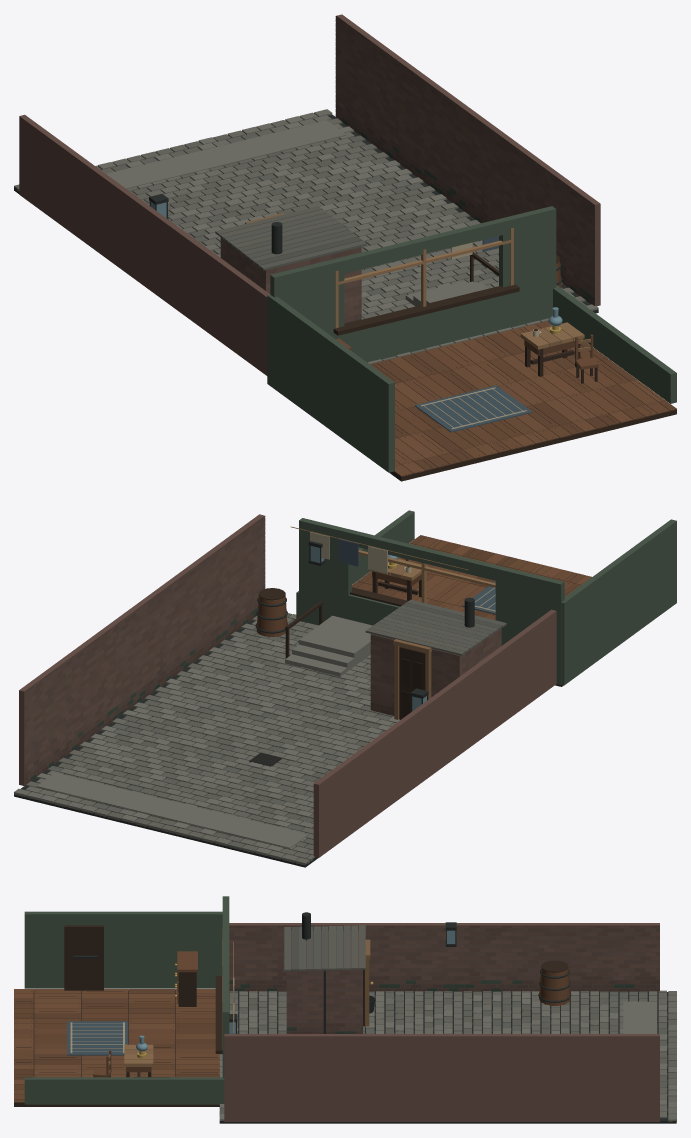
Rendered from baines-room.glb.
3 renders of one model, top to bottom at view 1: azimuth 30°, elevation 25°; view 2: azimuth 150°, elevation 25°; view 3: azimuth 270°, elevation 25°, orthographic. The views are drawn at different scales.
Visible parts, largest first — view 1: baines-room-brick, baines-room-stone, baines-room-green, baines-room-wood, baines-room-woodDark, baines-room-blue, baines-room-woodLight, baines-room-iron, baines-room-linen; view 2: baines-room-stone, baines-room-brick, baines-room-green, baines-room-wood, baines-room-woodDark, baines-room-iron, baines-room-woodLight, baines-room-blue, baines-room-linen; view 3: baines-room-brick, baines-room-stone, baines-room-green, baines-room-wood, baines-room-woodDark, baines-room-iron, baines-room-blue, baines-room-woodLight, baines-room-linen.
Boxes of the visible parts, left/top/right/bottom form: baines-room-brick: left=19, top=14, right=600, bottom=375; baines-room-stone: left=14, top=17, right=598, bottom=364; baines-room-green: left=267, top=118, right=676, bottom=472; baines-room-wood: left=336, top=261, right=676, bottom=476; baines-room-woodDark: left=333, top=252, right=676, bottom=481; baines-room-blue: left=415, top=236, right=532, bottom=432; baines-room-woodLight: left=245, top=213, right=590, bottom=351; baines-room-iron: left=14, top=114, right=672, bottom=473; baines-room-linen: left=420, top=242, right=541, bottom=429; baines-room-stone: left=14, top=516, right=506, bottom=865; baines-room-brick: left=19, top=514, right=556, bottom=857; baines-room-green: left=30, top=510, right=676, bottom=781; baines-room-wood: left=256, top=535, right=591, bottom=637; baines-room-woodDark: left=258, top=541, right=577, bottom=719; baines-room-iron: left=14, top=536, right=590, bottom=867; baines-room-woodLight: left=291, top=526, right=495, bottom=719; baines-room-blue: left=339, top=539, right=495, bottom=614; baines-room-linen: left=310, top=532, right=495, bottom=611; baines-room-brick: left=224, top=923, right=659, bottom=1121; baines-room-stone: left=219, top=925, right=676, bottom=1121; baines-room-green: left=24, top=896, right=634, bottom=1104; baines-room-wood: left=14, top=951, right=570, bottom=1102; baines-room-woodDark: left=14, top=925, right=568, bottom=1106; baines-room-iron: left=16, top=912, right=676, bottom=1123; baines-room-blue: left=67, top=990, right=234, bottom=1055; baines-room-woodLight: left=108, top=929, right=370, bottom=1066; baines-room-linen: left=70, top=978, right=234, bottom=1053.
Bounding box in the file's own units: 10.55 × 3.61 × 21.76.
